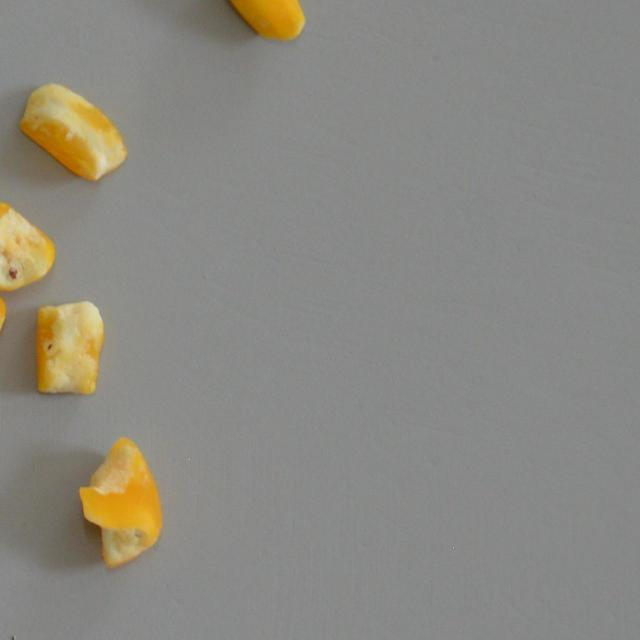dañado: (0, 200, 56, 296), (213, 0, 307, 42)
pelicula: (16, 78, 126, 186)
punto_negro: (79, 435, 164, 572), (33, 298, 106, 400)
